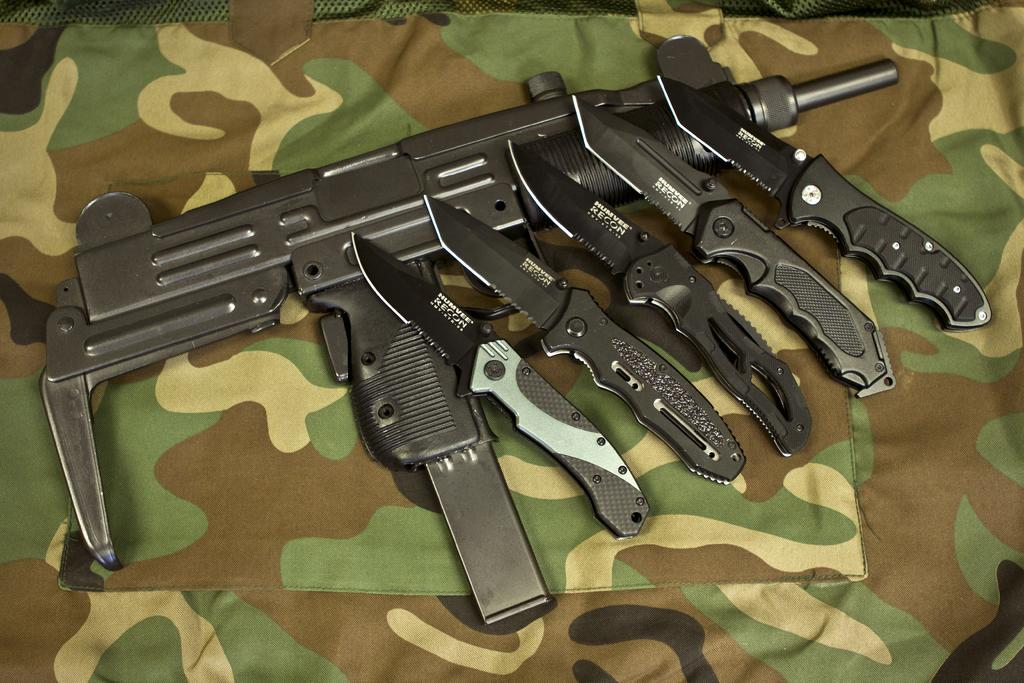Rifle: (38, 31, 897, 629)
